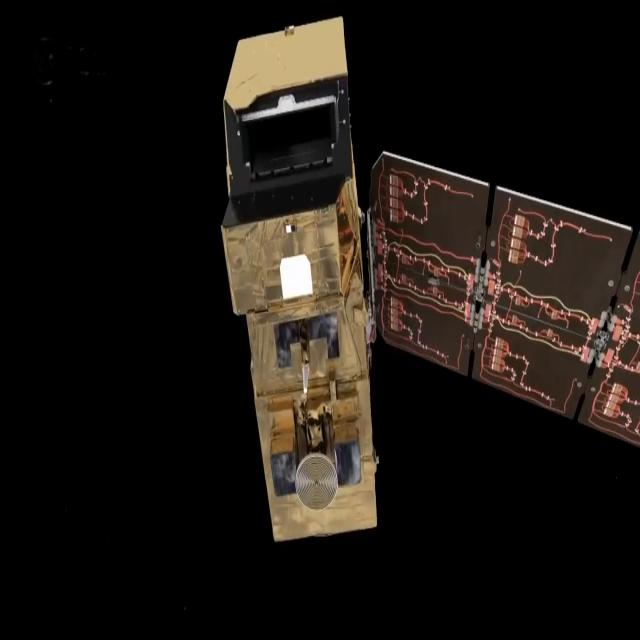satellite: (205, 0, 640, 567)
